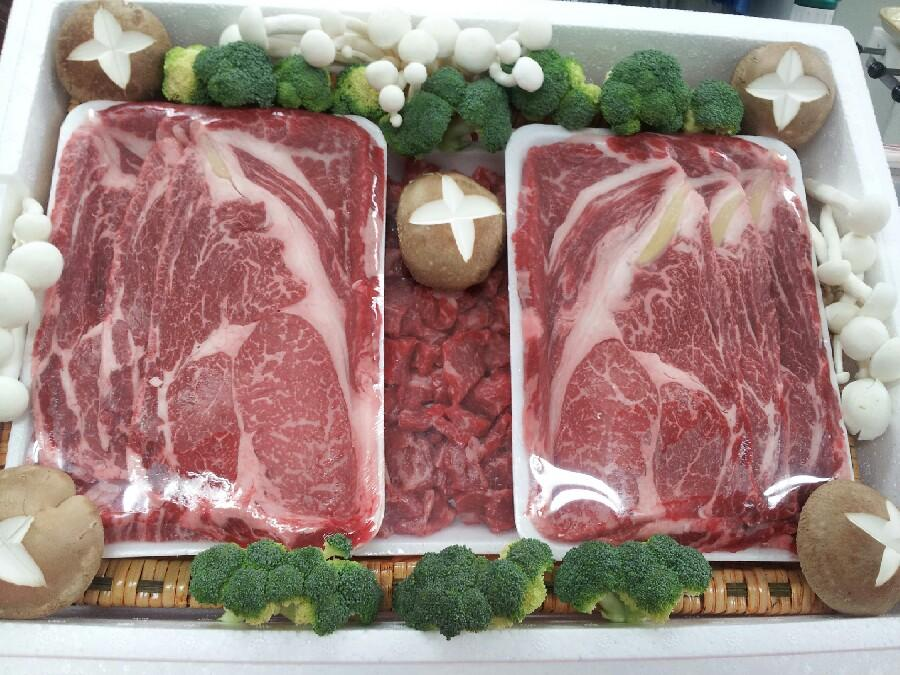beef: (94, 133, 519, 547), (691, 163, 900, 549)
